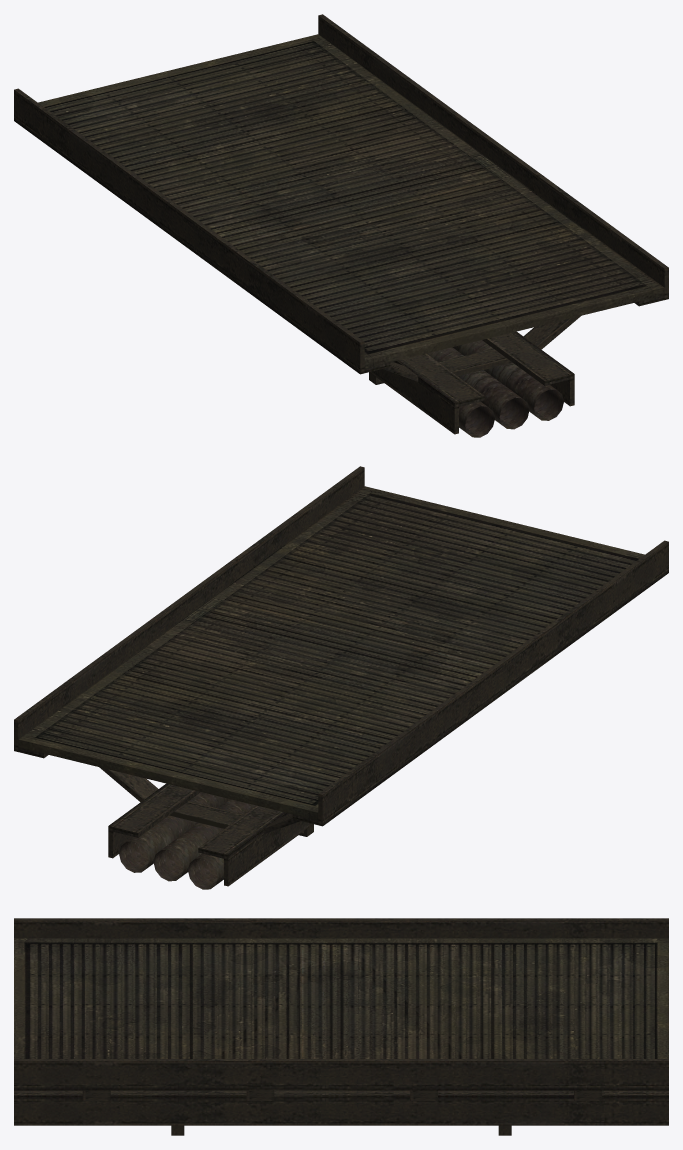
File: platform_bx_2.obj
3 views of the same model, one above another, from view 1: azimuth 30°, elevation 25°; view 2: azimuth 150°, elevation 25°; view 3: azimuth 270°, elevation 25° (orthographic). The views are drawn at different scales.
Parts seen in each view (by area): view 1: platform_bx_2; view 2: platform_bx_2; view 3: platform_bx_2.
Boxes of the visible parts, x1,y1,x2,y2 form: platform_bx_2: (14, 14, 668, 437); platform_bx_2: (14, 466, 668, 889); platform_bx_2: (14, 918, 668, 1135).
Size of the model in its own units: 2.06 by 0.81 by 4.
